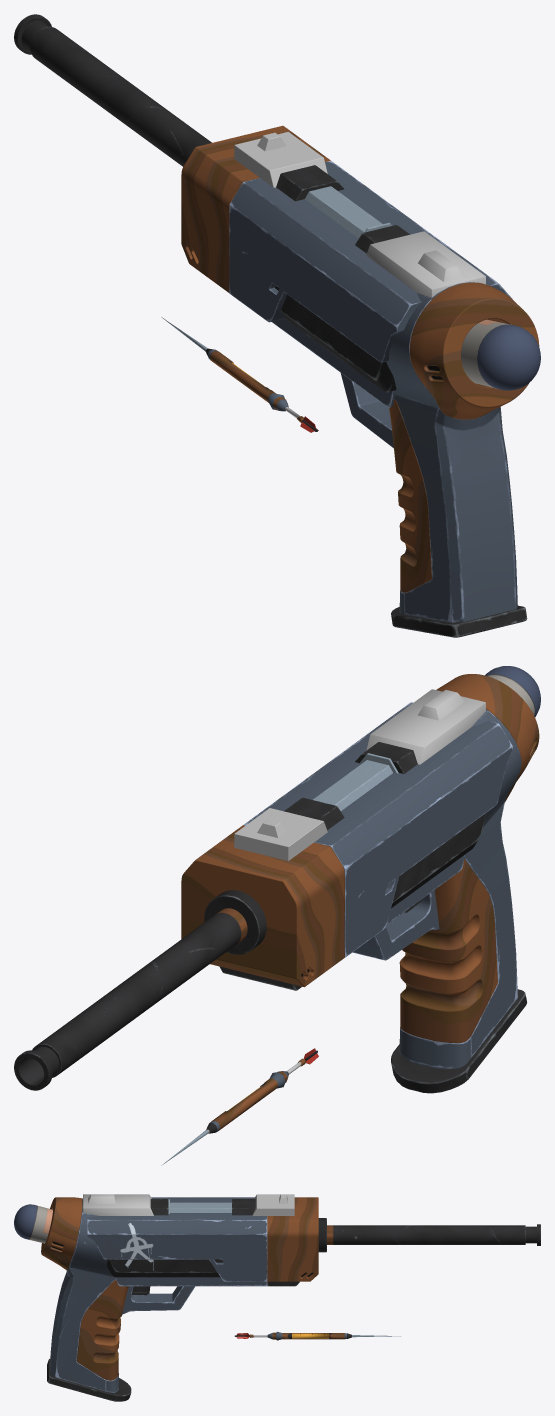
Rendered from arthurGorin_theMark.fbx.
3 renders of one model, top to bottom at view 1: azimuth 30°, elevation 25°; view 2: azimuth 150°, elevation 25°; view 3: azimuth 270°, elevation 25°, orthographic. The views are drawn at different scales.
Parts seen in each view (by area): view 1: gun, needle; view 2: gun, needle; view 3: gun, needle.
Part boxes in pixels (x1,y1,x2,y2): gun: [14, 14, 540, 637]; needle: [161, 317, 318, 432]; gun: [14, 666, 540, 1093]; needle: [161, 1048, 318, 1165]; gun: [14, 1194, 540, 1401]; needle: [234, 1331, 400, 1340].
Bounding box in the file's own units: 3.46 × 10.67 × 25.44.
